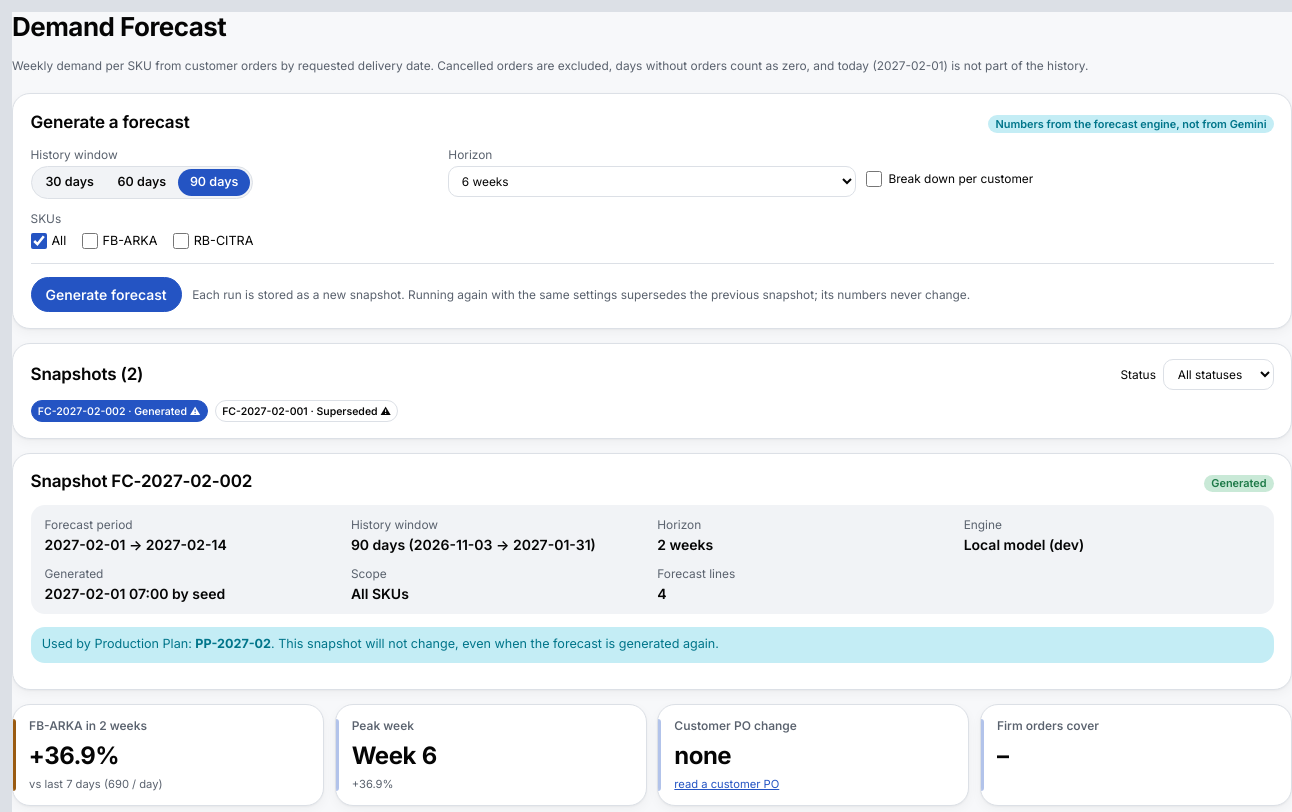
filters snapshots by status and shows a superseded snapshot as read-only history
Expected: the heading "Snapshot FC-2027-02-002" is shown, [30,469,252,495]
Select "Superseded" in the dropdown named "Filter snapshots by status": (1218, 375) [1163,359,1274,390]
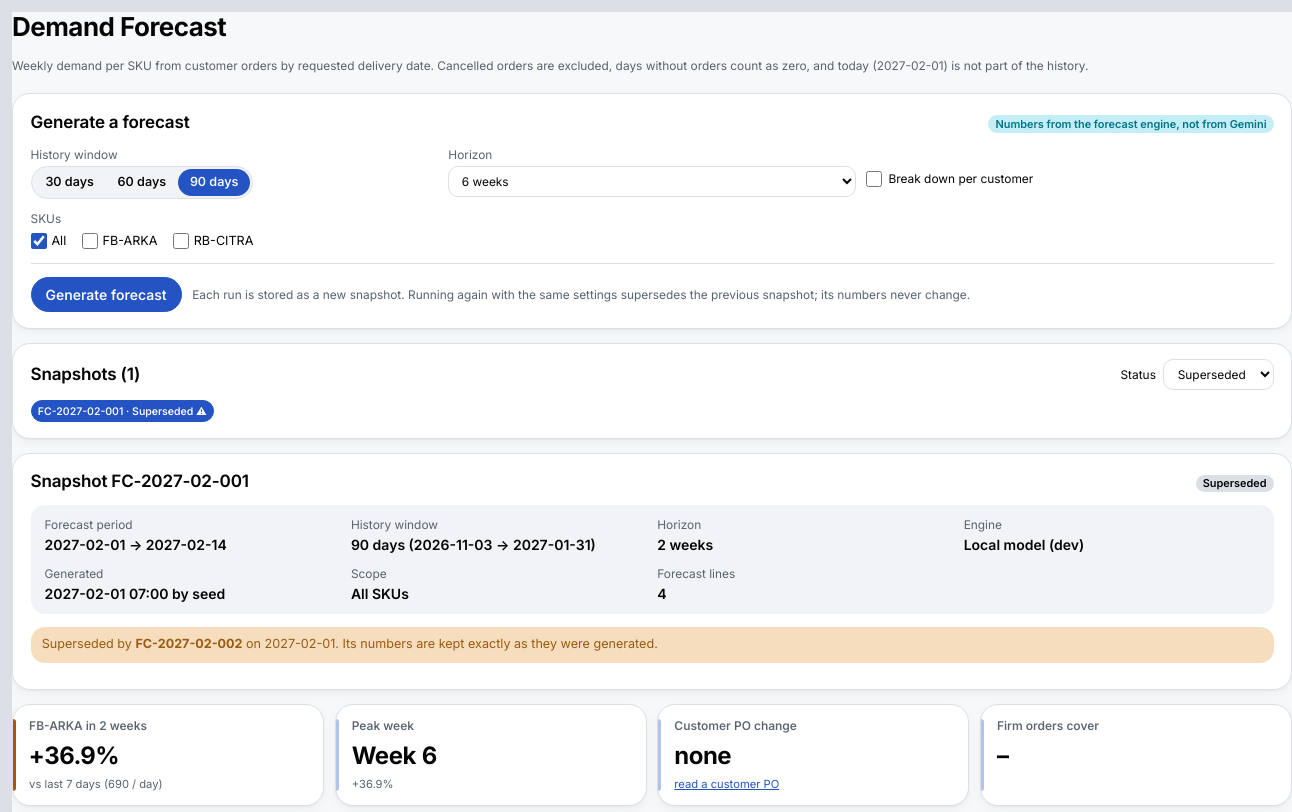
Expected: the heading "Snapshot FC-2027-02-001" is shown, [30,469,249,495]
Expected: the text "Superseded by" shows "Its numbers are kept exactly as they were generated.", [335,636,658,651]
